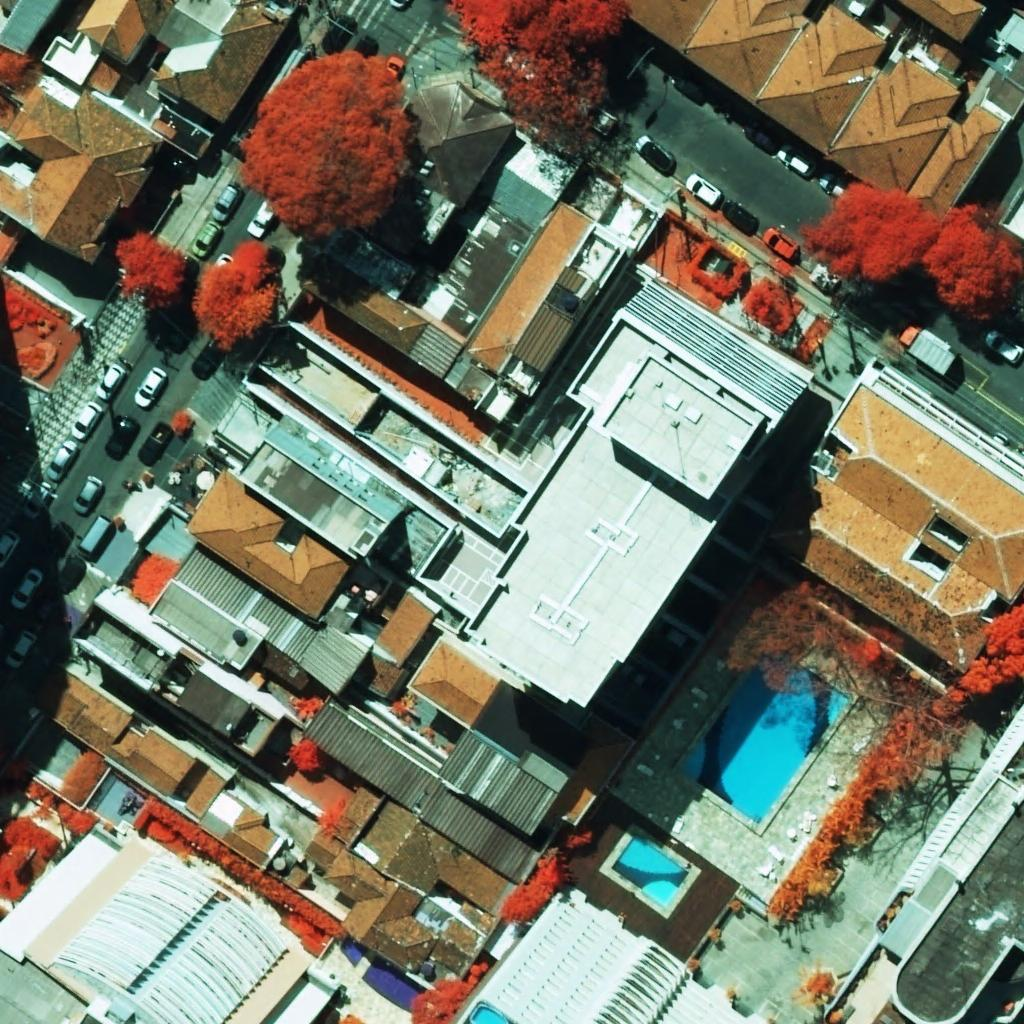pool: (678, 670, 850, 823), (340, 937, 427, 1013), (612, 835, 688, 908), (470, 1005, 508, 1024)
